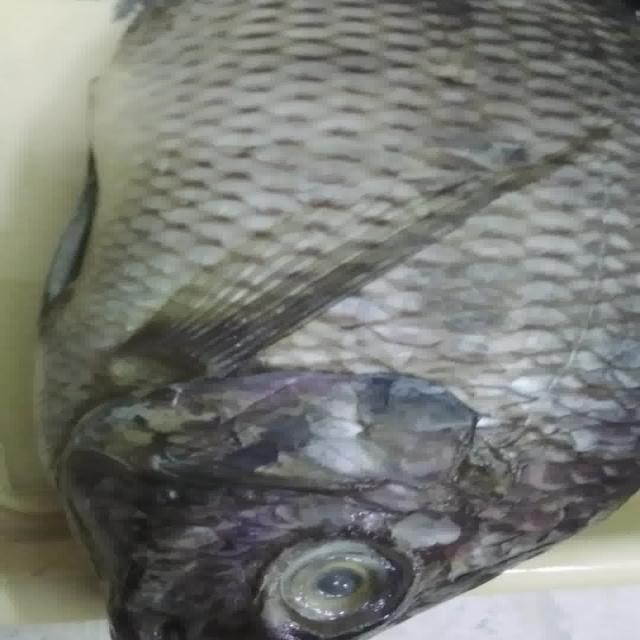Non-Fresh: (87, 282, 616, 511), (267, 537, 403, 620)
